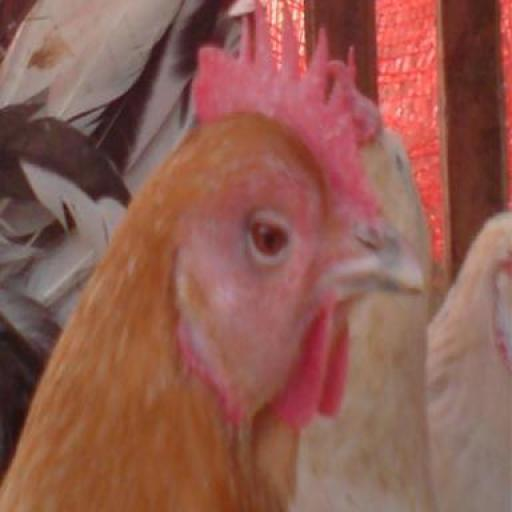disease: (203, 153, 325, 340)
